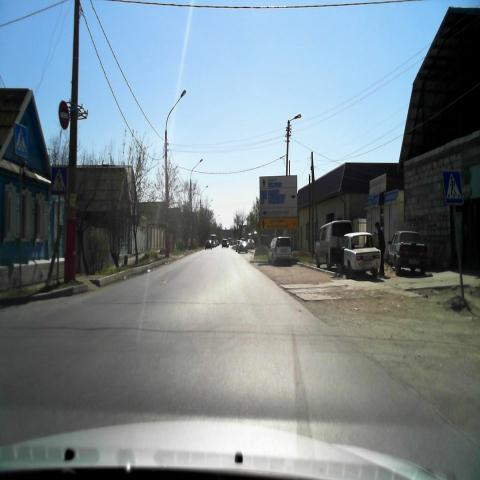3_1: (57, 97, 72, 132)
